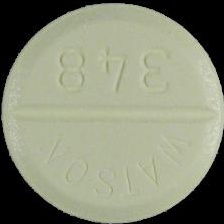0591-0348: (0, 0, 224, 224)
